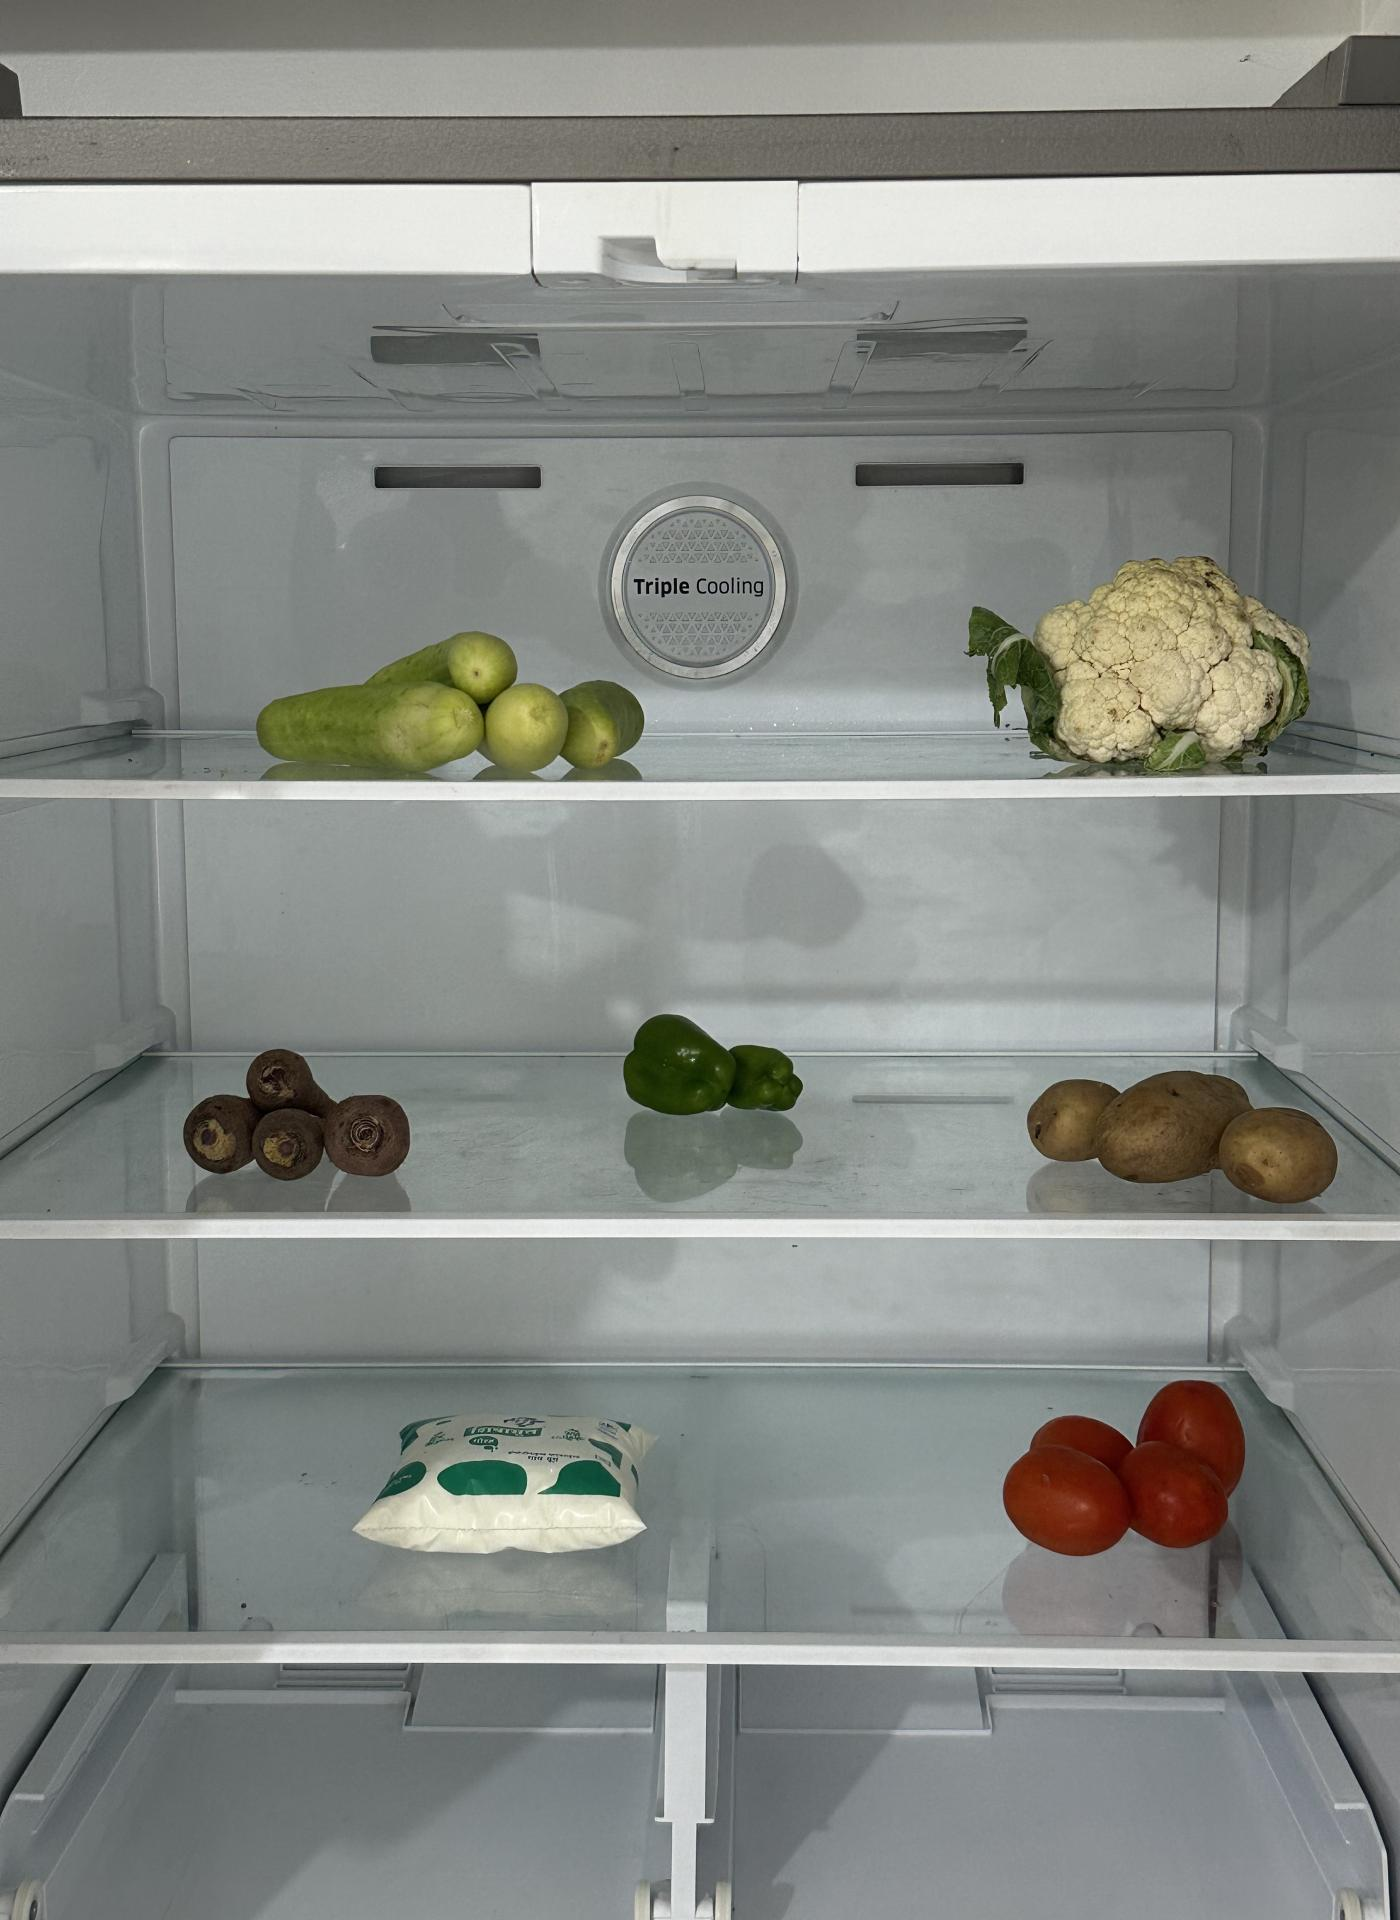capsicum: (616, 1008, 811, 1117)
carrots: (185, 1042, 410, 1187)
cauliflower: (1030, 555, 1308, 765)
cucumber: (247, 628, 650, 781)
milk: (358, 1401, 653, 1556)
potato: (1024, 1066, 1333, 1204)
tomato: (1002, 1371, 1249, 1556)
